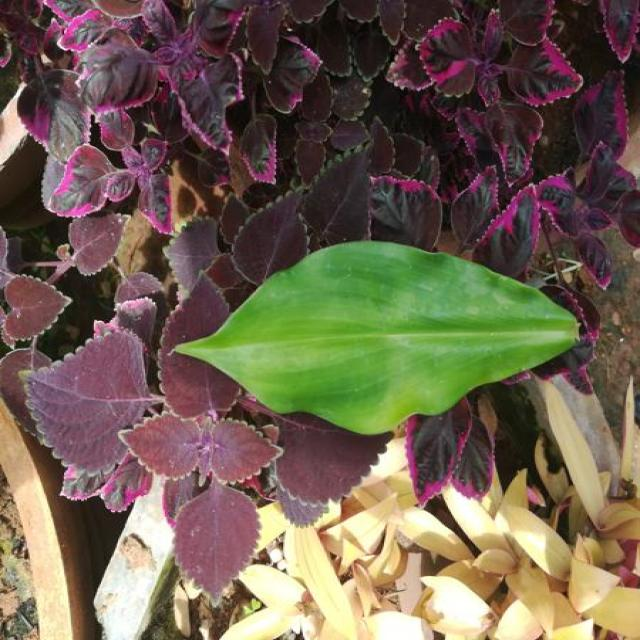insulin: (175, 241, 578, 433)
